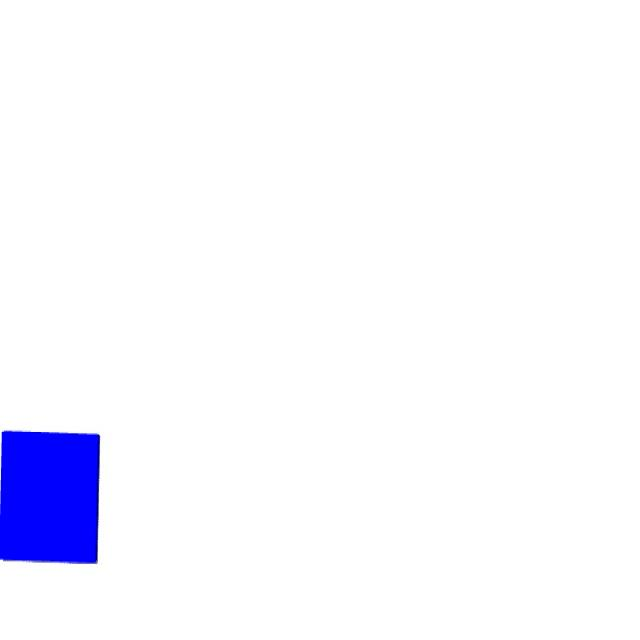blue_square: (0, 428, 99, 563)
